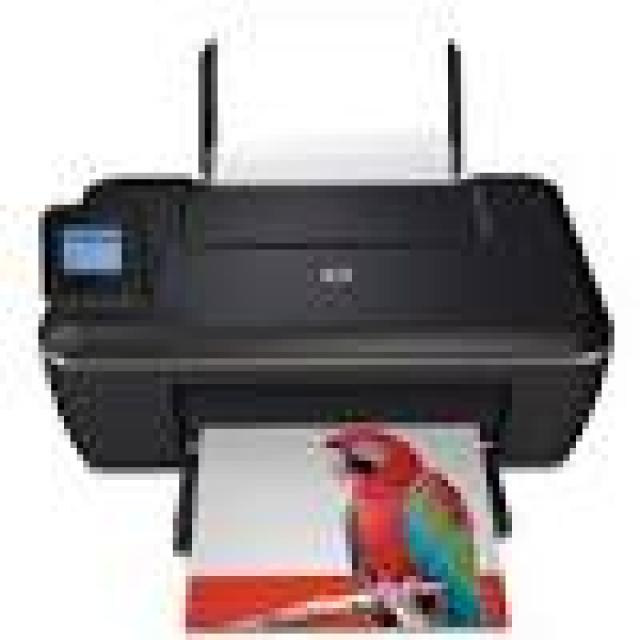printer: (19, 7, 640, 640)
